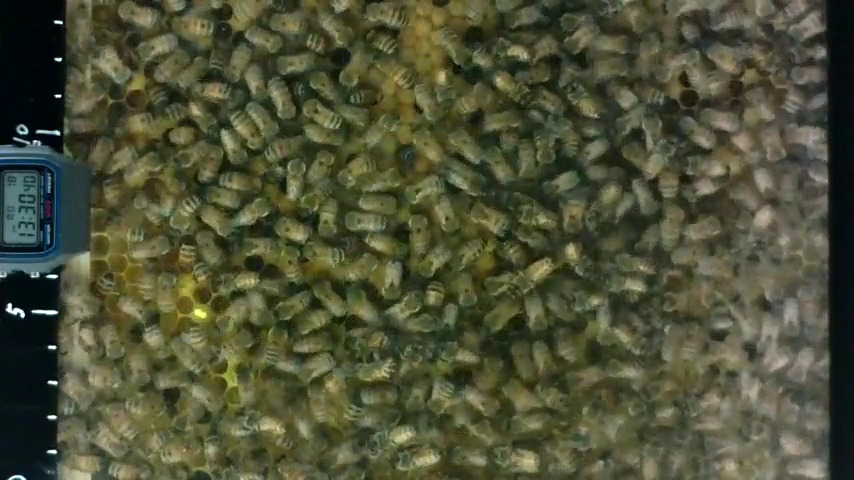hati: (92, 40, 131, 89), (511, 256, 554, 299), (443, 120, 484, 165), (309, 276, 349, 320), (354, 22, 401, 59), (464, 199, 508, 238), (490, 68, 530, 109), (265, 74, 298, 123), (228, 108, 265, 151), (299, 97, 342, 134), (89, 420, 127, 461), (184, 97, 220, 140), (435, 25, 469, 68), (563, 80, 597, 123), (94, 319, 128, 361), (115, 2, 162, 32), (339, 153, 376, 191), (241, 23, 284, 55), (216, 270, 263, 297), (273, 214, 311, 247), (402, 175, 446, 203), (135, 33, 176, 63), (344, 209, 390, 235), (299, 176, 328, 217), (235, 196, 271, 229), (515, 134, 538, 184), (428, 379, 456, 420), (153, 270, 179, 314), (218, 170, 264, 194), (173, 194, 202, 232), (420, 242, 450, 278), (414, 78, 437, 124), (228, 41, 251, 84), (171, 15, 213, 38), (382, 259, 403, 304), (265, 323, 286, 368), (156, 366, 191, 393), (159, 52, 183, 85)
